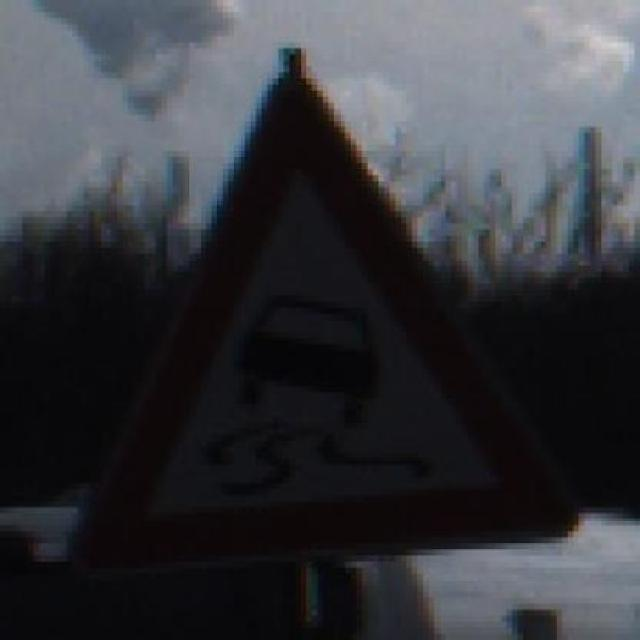Slippery Road Ahead: (67, 30, 596, 579)
